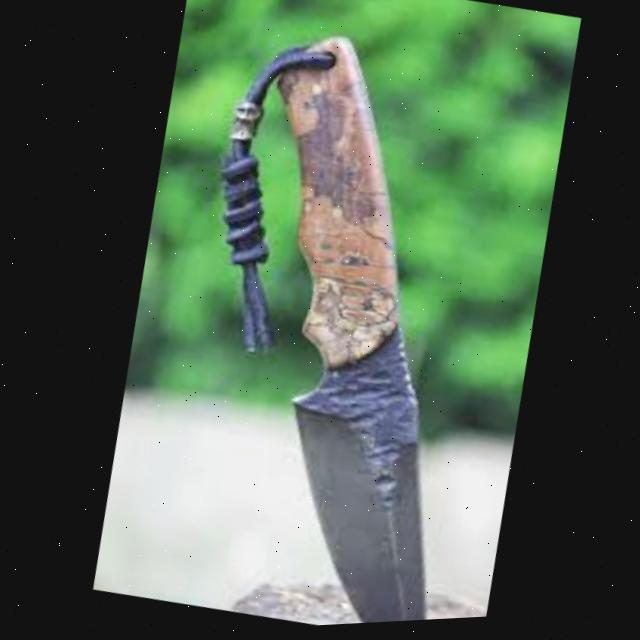Knife: (123, 11, 539, 635)
